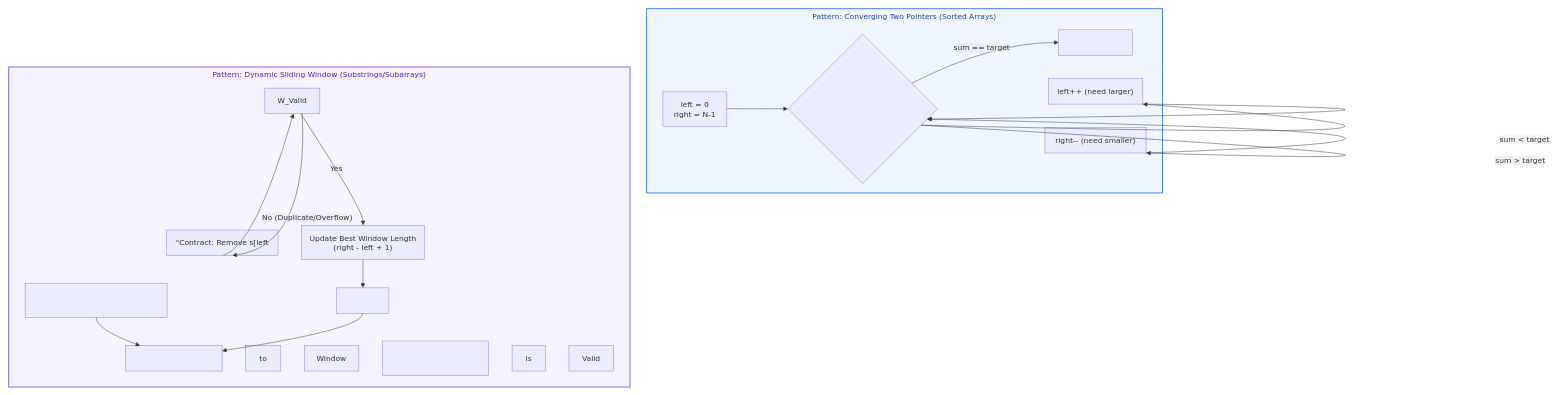
This 1557x395 diagram has some shape labels left out. Each missing label, with the centre of its shape:
"Expand: Add s[right: (173,358)
] W_Expand --> W_Valid{: (435,358)
left = 0, right = 0 Initialize Window State (Map/Set): (96,300)
Match Found!: (1095,42)
right++: (362,300)
sum = arr[left] + arr[right]: (862,109)
